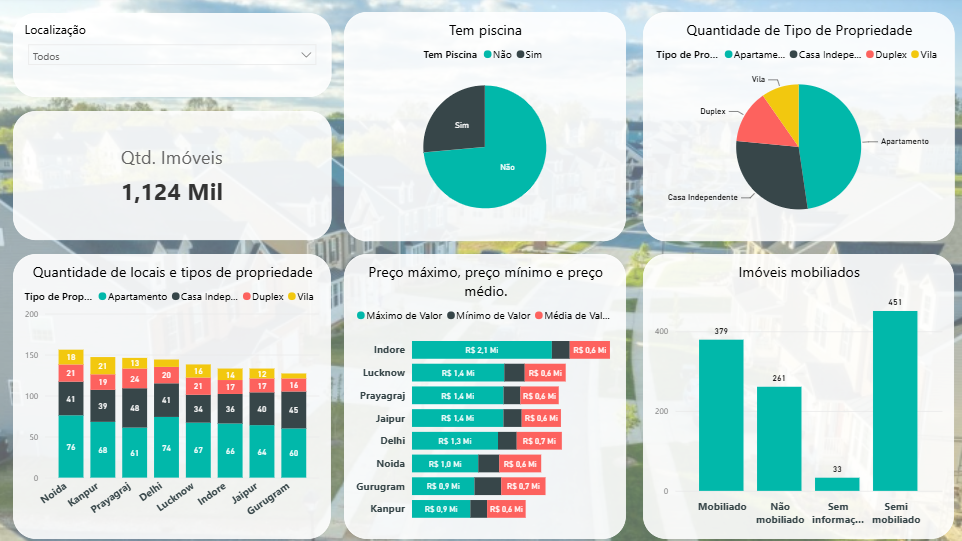

The page's visual inventory and layout, read from the dashboard file:
{"tool":"powerbi","page":{"name":"Página 1","canvas":[1280,720],"ordinal":0},"visuals":[{"type":"columnChart","title":"Quantidade de locais e tipos de propriedade","fields":{"Category":["imoveis.Location"],"Y":["CountNonNull(imoveis.Location)"],"Series":["imoveis.Property_Type"]},"box":[22.3,336.4,416.3,373.1],"z":0},{"type":"pieChart","title":"Quantidade de Tipo de Propriedade","fields":{"Category":["imoveis.Property_Type"],"Y":["CountNonNull(imoveis.Property_Type)"]},"box":[846.7,20.2,407.5,299.5],"z":1000},{"type":"columnChart","title":"Imóveis mobiliados","fields":{"Category":["imoveis.Street_Type","imoveis.Furnishing"],"Y":["CountNonNull(imoveis.Tipo de Rua)"]},"box":[847,336.4,407.1,373.1],"z":2000},{"type":"pieChart","title":"Tem piscina","fields":{"Series":["imoveis.Has_Pool"],"Y":["CountNonNull(imoveis.Street_Type)"]},"box":[455,20.2,368.6,299.5],"z":3000},{"type":"slicer","title":"Localização","fields":{"Values":["imoveis.Location"]},"box":[22,20.6,416.6,110],"z":4000},{"type":"cardVisual","fields":{"Data":["CountNonNull(imoveis.Street_Type)"]},"box":[22,149.9,416.6,169.1],"z":5000},{"type":"barChart","title":"Preço máximo, preço mínimo e preço médio.","fields":{"Category":["imoveis.Location"],"Y":["Max(imoveis.Price)","Min(imoveis.Price)","Avg(imoveis.Price)"]},"box":[455.6,336.4,369.2,373.1],"z":6000}]}

Visuals, with their boxes in screenshot pixels (x1, y1, x2, y2), scaled from the page's 1280x720 canvas onto the 962x541 screenshot:
"Quantidade de locais e tipos de propriedade" columnChart: 17 253 330 533
"Quantidade de Tipo de Propriedade" pieChart: 636 15 943 240
"Imóveis mobiliados" columnChart: 637 253 943 533
"Tem piscina" pieChart: 342 15 619 240
"Localização" slicer: 17 15 330 98
cardVisual - CountNonNull(imoveis.Street_Type): 17 113 330 240
"Preço máximo, preço mínimo e preço médio." barChart: 342 253 620 533
